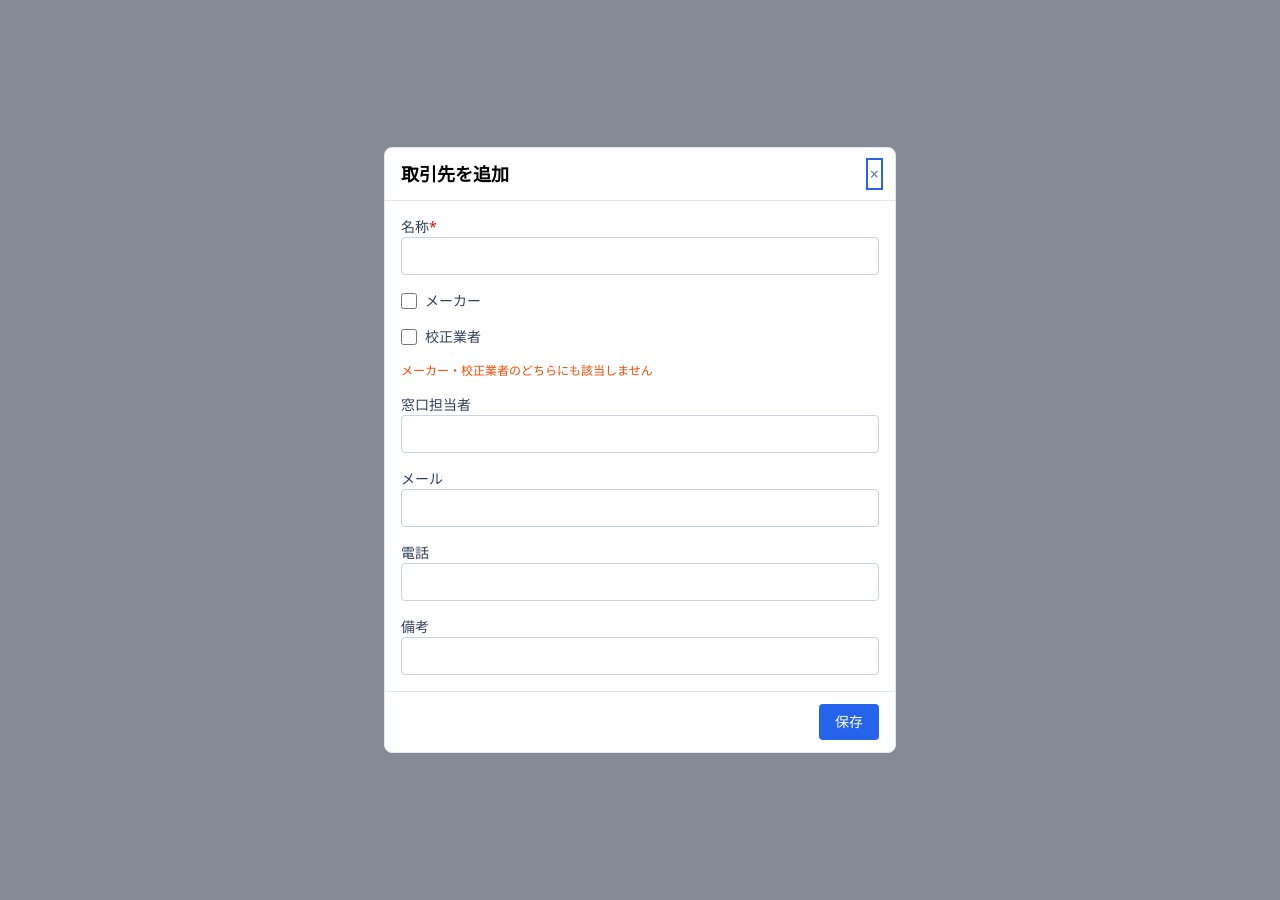
VendorModal: 新規追加 › 校正業者をチェックすると標準納期(日)フィールドが表示される
The width and height of the screenshot is (1280, 900).
What coordinates should you click on to do the following:
click the checkbox labelled "校正業者"
I would click on:
 (409, 337)
Its box is top-left (401, 329), bottom-right (417, 345).
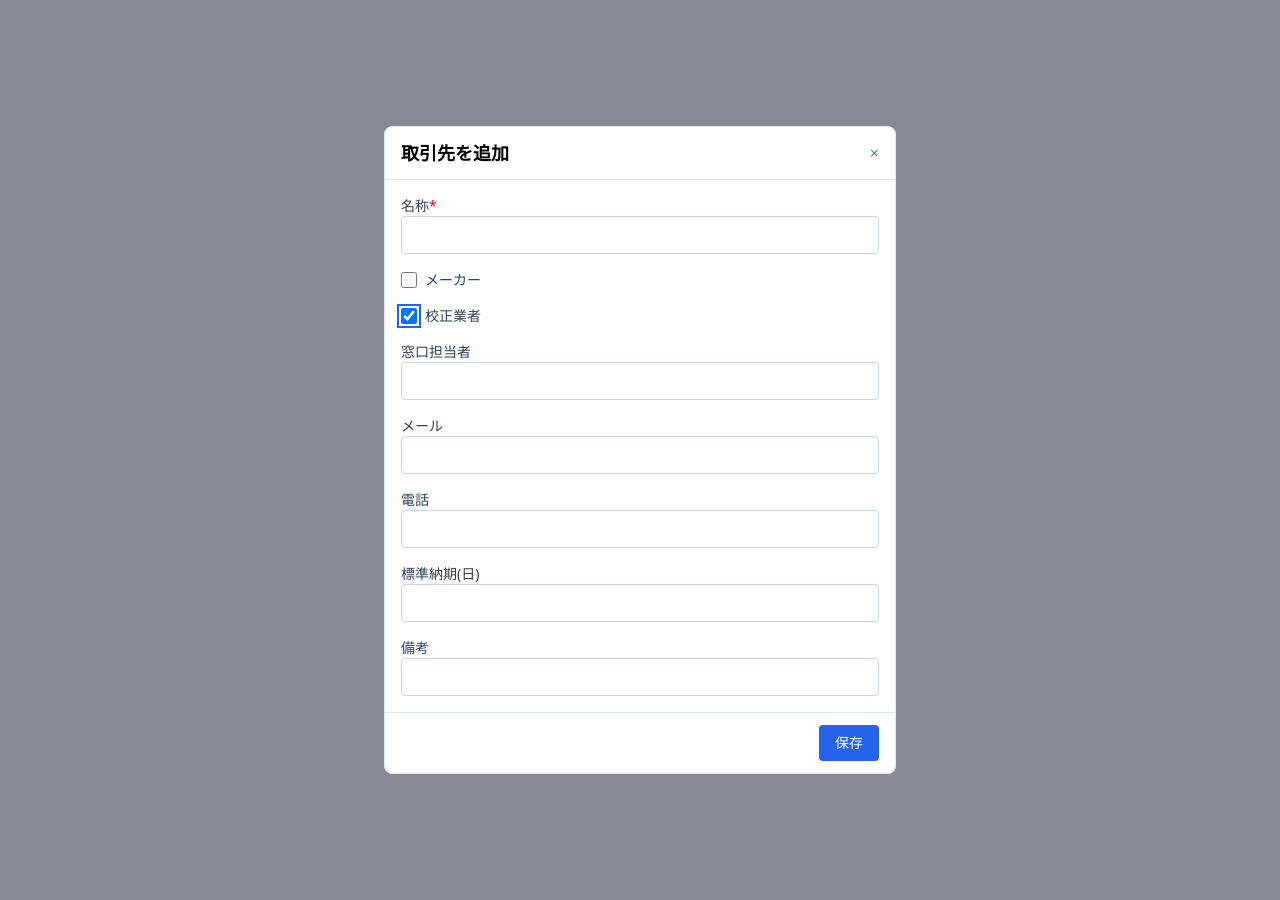
Expected: the number field labelled "標準納期(日)" is shown, top-left (401, 584), bottom-right (879, 622)
